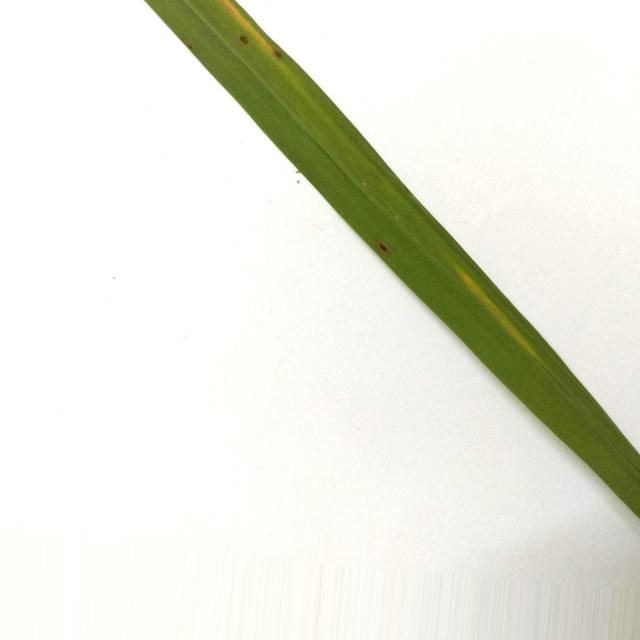Brown_Spot: (376, 240, 391, 255), (239, 35, 249, 44), (274, 49, 282, 59)
